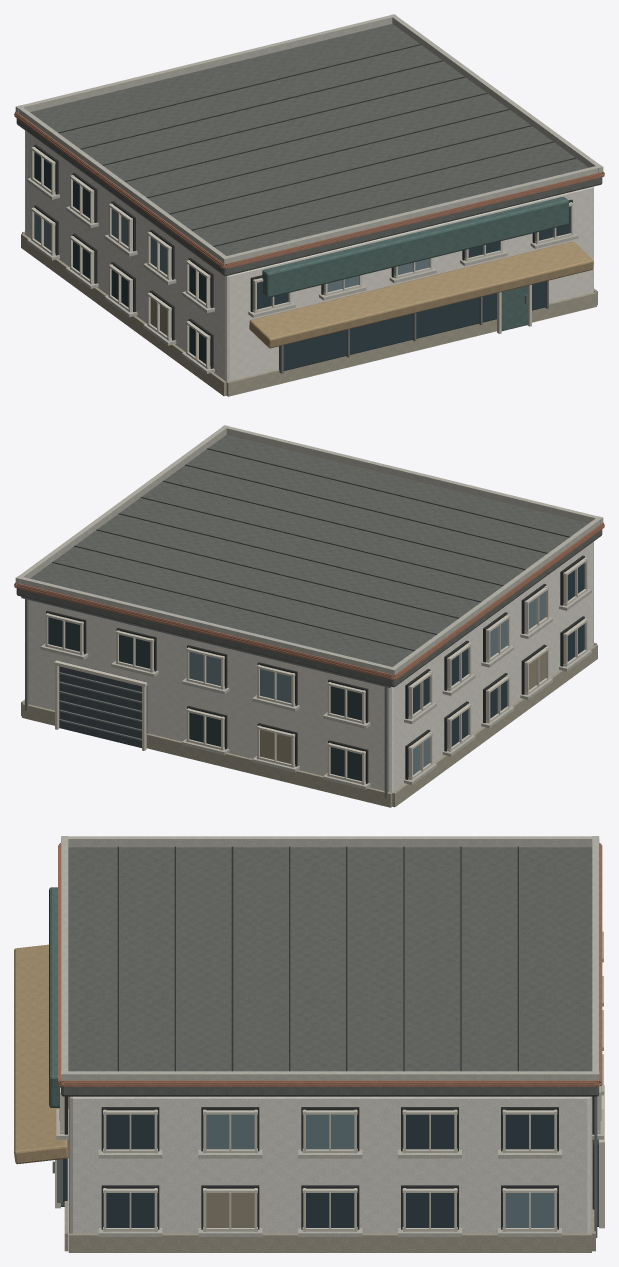
Rendered from COM_MID_2x2_005.glb.
3 views of the same model, one above another, from view 1: azimuth 30°, elevation 25°; view 2: azimuth 150°, elevation 25°; view 3: azimuth 270°, elevation 25° (orthographic). The views are drawn at different scales.
Visible parts, largest first — view 1: COM_MID_2x2_005_Visual; view 2: COM_MID_2x2_005_Visual; view 3: COM_MID_2x2_005_Visual.
Boxes of the visible parts, x1,y1,x2,y2 form: COM_MID_2x2_005_Visual: (14, 14, 604, 396); COM_MID_2x2_005_Visual: (14, 425, 604, 807); COM_MID_2x2_005_Visual: (14, 836, 604, 1252).
Size of what is drawn, in the model's own units: 3.81 by 1.32 by 3.93.
Materials: 14 (8 with a texture image).
